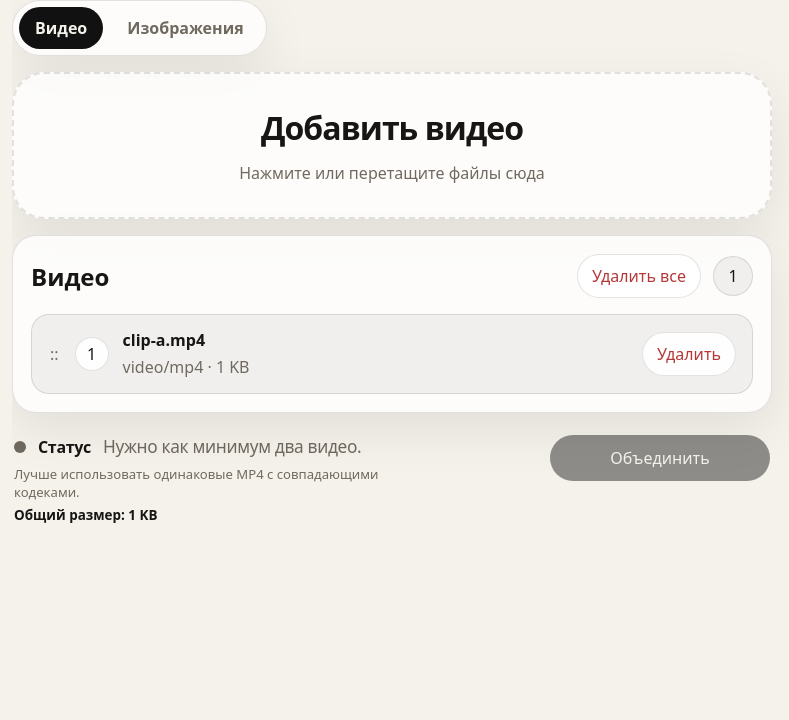
Scenario: EditorWorkspace › switches between the video and image tabs without breaking the video workflow
Expected: the text "Добавить видео" is shown, [261,106,523,149]
Click the button "Изображения". click: (186, 28)
box: [111,7,260,49]
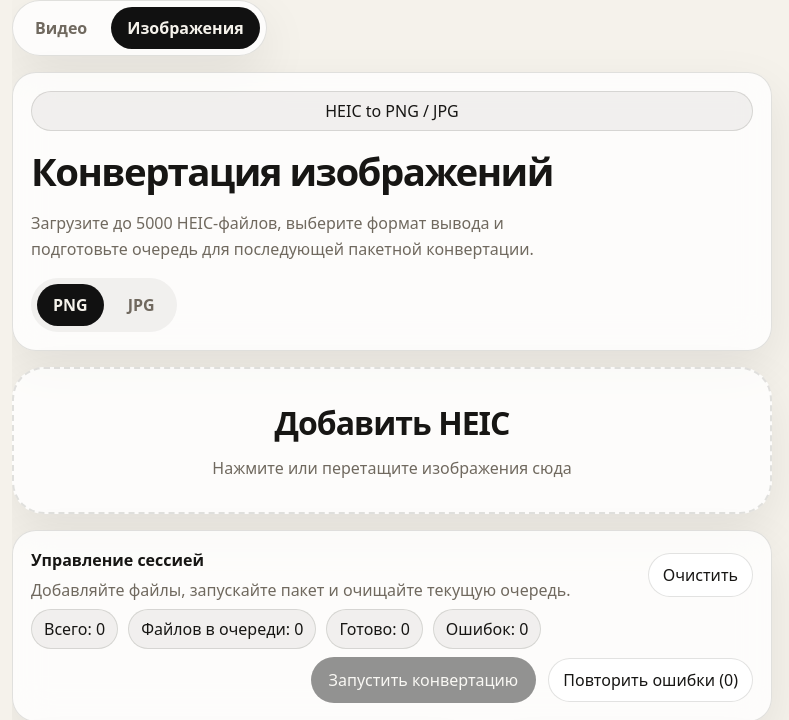
Expected: the heading "Конвертация изображений" is shown, [31,145,553,197]
Expected: the text "выберите формат вывода и подготовьте очередь" is shown, [31,212,534,260]
Expected: the button "Объединить" is gone
Click the button "Видео". click: (61, 28)
box: [19,7,103,49]
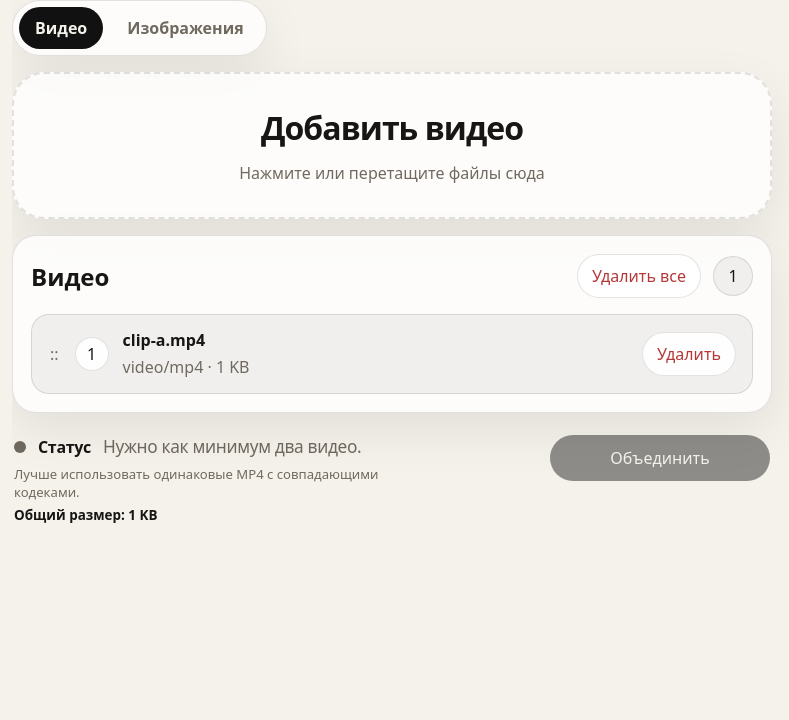
Expected: the text "Добавить видео" is shown, [261,106,523,149]
Expected: the button "Объединить" is shown, [550,435,770,481]
